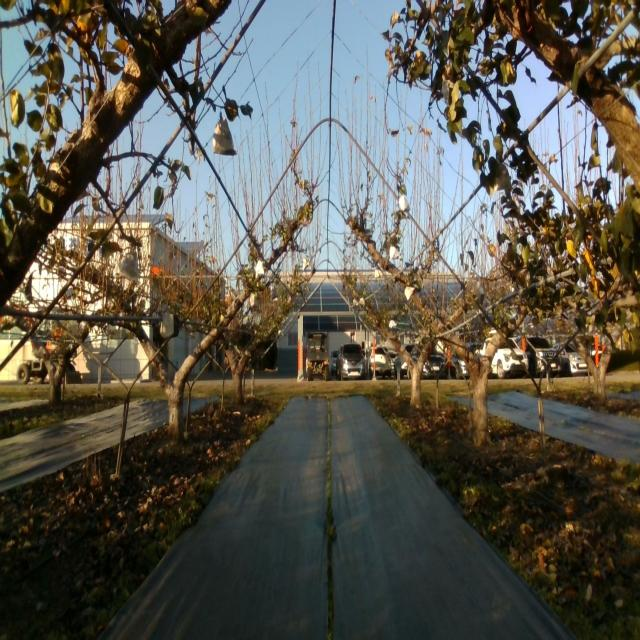pearbags: (212, 112, 238, 156), (115, 252, 139, 280), (493, 163, 512, 191)
